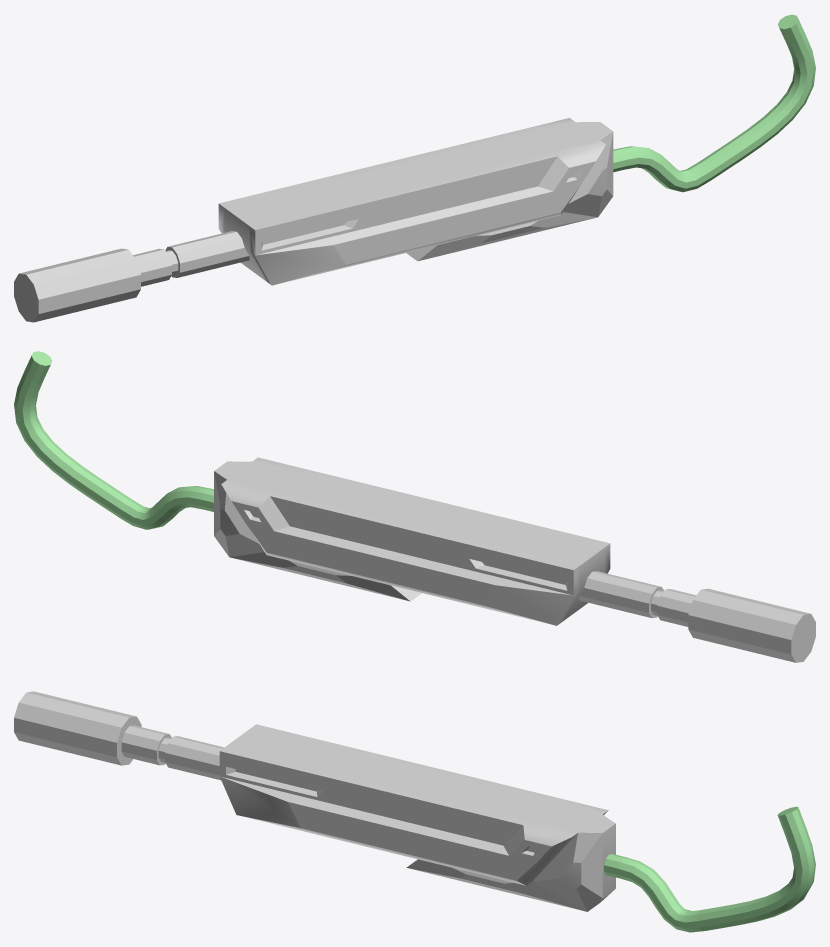
Rendered from Arma_F.fbx.
The picture shows the model from 3 angles, top to bottom: view 1: azimuth 30°, elevation 25°; view 2: azimuth 150°, elevation 25°; view 3: azimuth 330°, elevation 25°; orthographic projection.
Visible parts, largest first — view 1: Arma_F; view 2: Arma_F; view 3: Arma_F.
Part boxes in pixels (bbox=[...]): Arma_F: bbox=[14, 14, 815, 322]; Arma_F: bbox=[14, 351, 815, 662]; Arma_F: bbox=[14, 691, 815, 932].
Size of the model in its own units: 2.71 by 0.4894 by 0.278.
